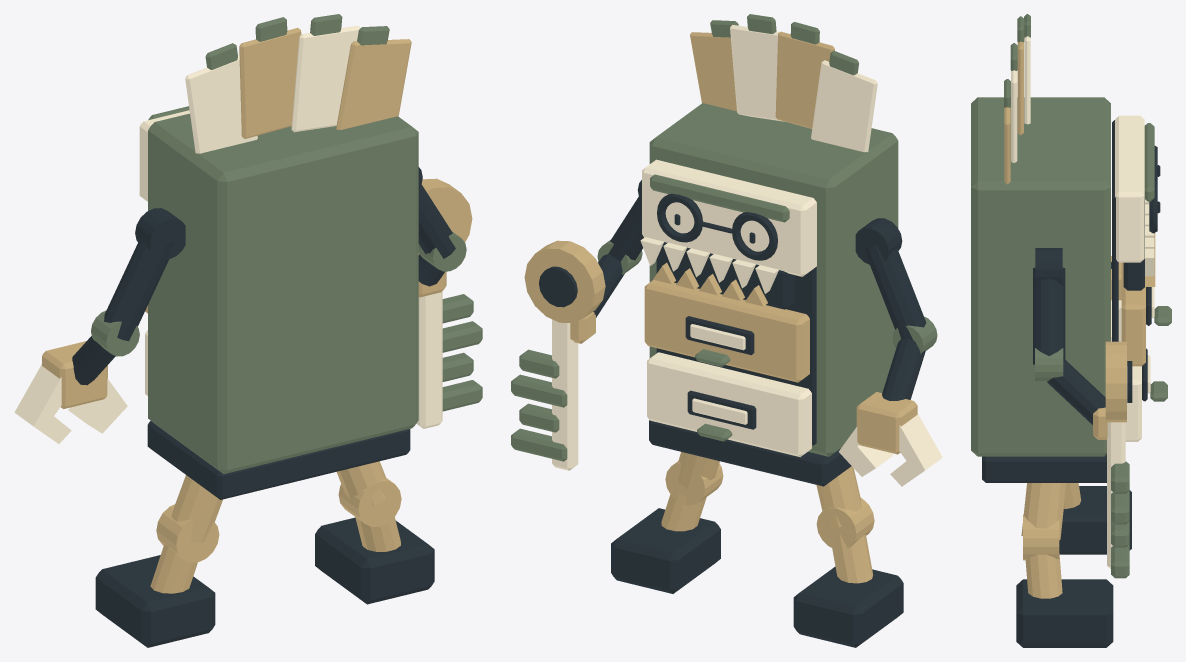
3 renders of one model, left to right at view 1: azimuth 30°, elevation 25°; view 2: azimuth 150°, elevation 25°; view 3: azimuth 270°, elevation 25°, orthographic. The views are drawn at different scales.
Parts seen in each view (by area): view 1: catalog_carcass, L_shoe, catalog_underframe, R_shoe, index_card_1, index_card_3, index_card_2, index_card_0, L_upper_arm, index_key_spine, file_thumb, filing_claw_palm (+18 smaller); view 2: catalog_carcass, drawer_0_front, head_drawer, drawer_1_front, L_shoe, R_shoe, catalog_underframe, index_card_0, index_key_ring, index_card_2, index_card_1, index_key_spine (+30 smaller); view 3: catalog_carcass, R_shoe, head_drawer, catalog_underframe, L_shoe, R_upper_arm, drawer_1_front, index_key_ring, R_thigh, R_forearm, R_shin, R_kneecap (+20 smaller).
Part boxes in pixels (x1,y1,x2,y2): catalog_carcass: [148, 113, 418, 474]; L_shoe: [95, 555, 215, 647]; catalog_underframe: [147, 421, 410, 499]; R_shoe: [315, 517, 434, 604]; index_card_1: [239, 28, 301, 138]; index_card_3: [336, 39, 411, 129]; index_card_2: [291, 25, 360, 132]; index_card_0: [185, 55, 257, 153]; L_upper_arm: [104, 238, 175, 341]; index_key_spine: [416, 291, 442, 428]; file_thumb: [14, 364, 71, 443]; filing_claw_palm: [42, 341, 107, 408]; catalog_carcass: [649, 103, 898, 456]; drawer_0_front: [647, 352, 811, 457]; head_drawer: [642, 159, 816, 276]; drawer_1_front: [644, 279, 809, 382]; L_shoe: [793, 566, 903, 647]; R_shoe: [611, 508, 720, 593]; catalog_underframe: [649, 420, 851, 486]; index_card_0: [811, 60, 877, 152]; index_key_ring: [524, 240, 605, 323]; index_card_2: [730, 25, 785, 121]; index_card_1: [775, 31, 834, 128]; index_key_spine: [552, 319, 578, 470]; catalog_carcass: [971, 97, 1110, 456]; R_shoe: [1016, 579, 1113, 647]; head_drawer: [1115, 115, 1144, 262]; catalog_underframe: [982, 454, 1106, 482]; L_shoe: [1059, 486, 1131, 554]; R_upper_arm: [1033, 267, 1065, 364]; drawer_1_front: [1121, 262, 1145, 366]; index_key_ring: [1105, 341, 1126, 422]; R_thigh: [1021, 483, 1066, 539]; R_forearm: [1047, 360, 1105, 424]; R_shin: [1025, 553, 1062, 598]; R_kneecap: [1023, 514, 1059, 560].
Size of the model in its own units: 1.79 by 2.28 by 0.7465.
